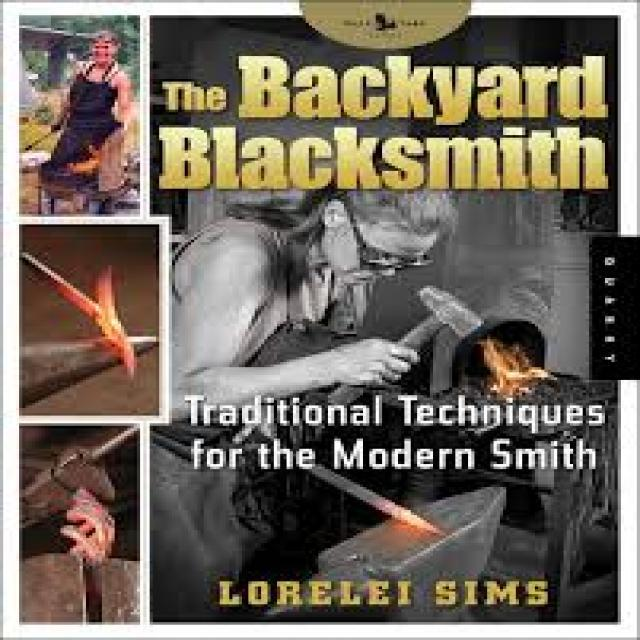hammer: (316, 284, 498, 432)
